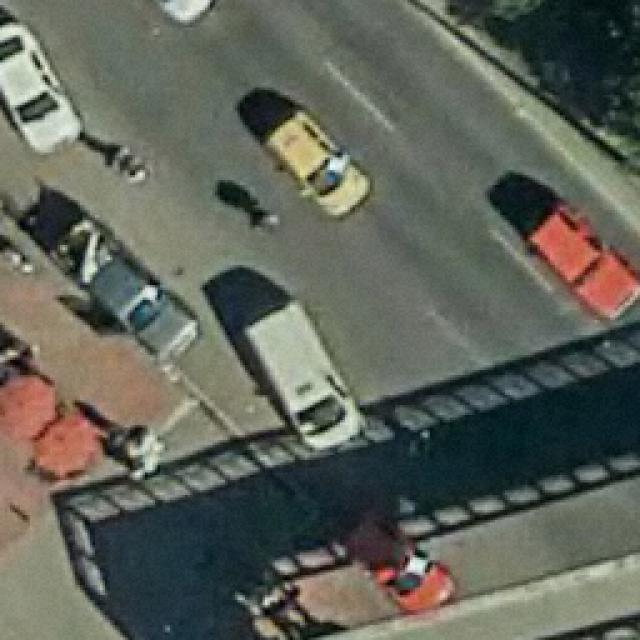vendedor_ambulante: (0, 364, 61, 445), (30, 409, 100, 476)
